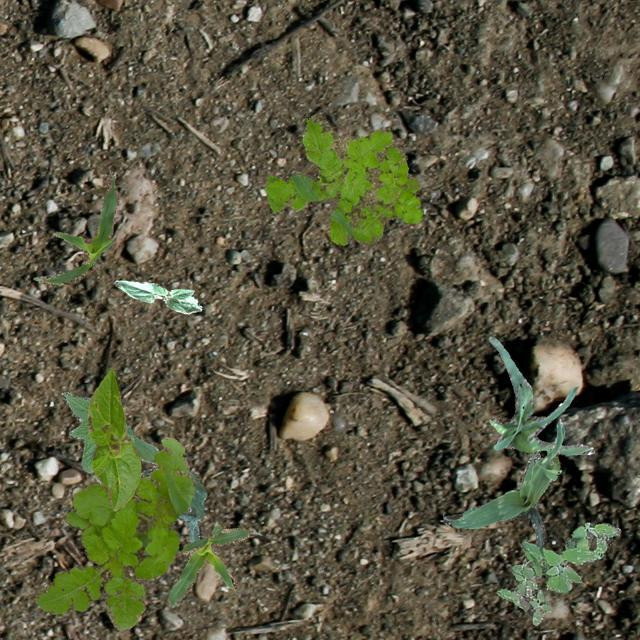crop: (442, 418, 564, 550), (488, 336, 594, 454), (32, 166, 118, 284), (60, 391, 158, 472), (86, 368, 140, 509), (168, 524, 260, 606), (139, 464, 205, 542), (114, 280, 200, 312)
weed: (34, 436, 194, 628), (264, 113, 422, 245), (496, 522, 620, 624)
